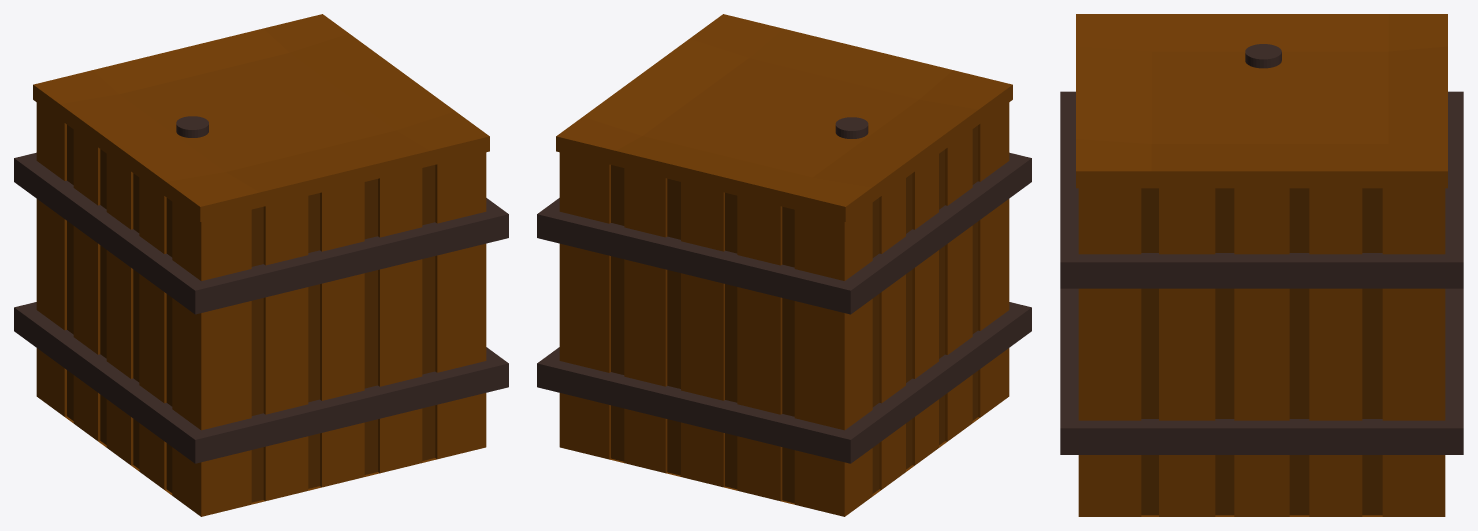
Rendered from Barrel.fbx.
3 renders of one model, left to right at view 1: azimuth 30°, elevation 25°; view 2: azimuth 150°, elevation 25°; view 3: azimuth 270°, elevation 25°, orthographic. The views are drawn at different scales.
Visible parts, largest first — view 1: Cube.001; view 2: Cube.001; view 3: Cube.001.
Boxes of the visible parts, <box> form: Cube.001: <box>14,14,508,516</box>; Cube.001: <box>537,14,1031,516</box>; Cube.001: <box>1060,14,1463,516</box>.
Size of the model in its own units: 2.2 by 2.11 by 2.2.
